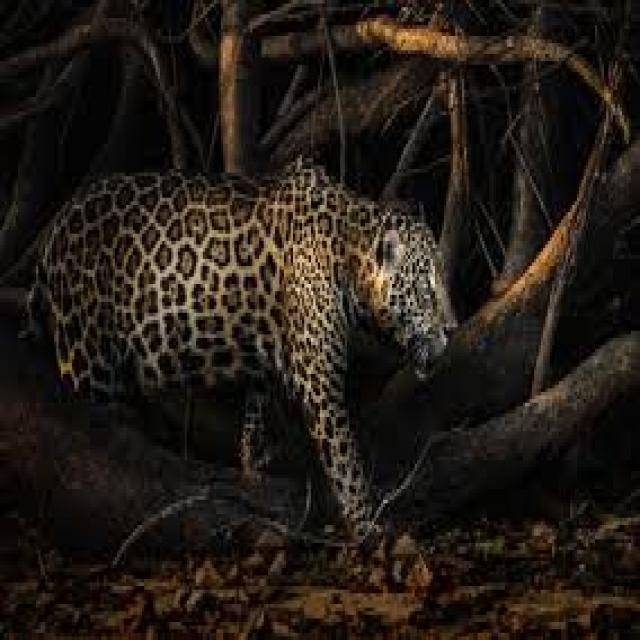Jaguar: (7, 151, 460, 582)
